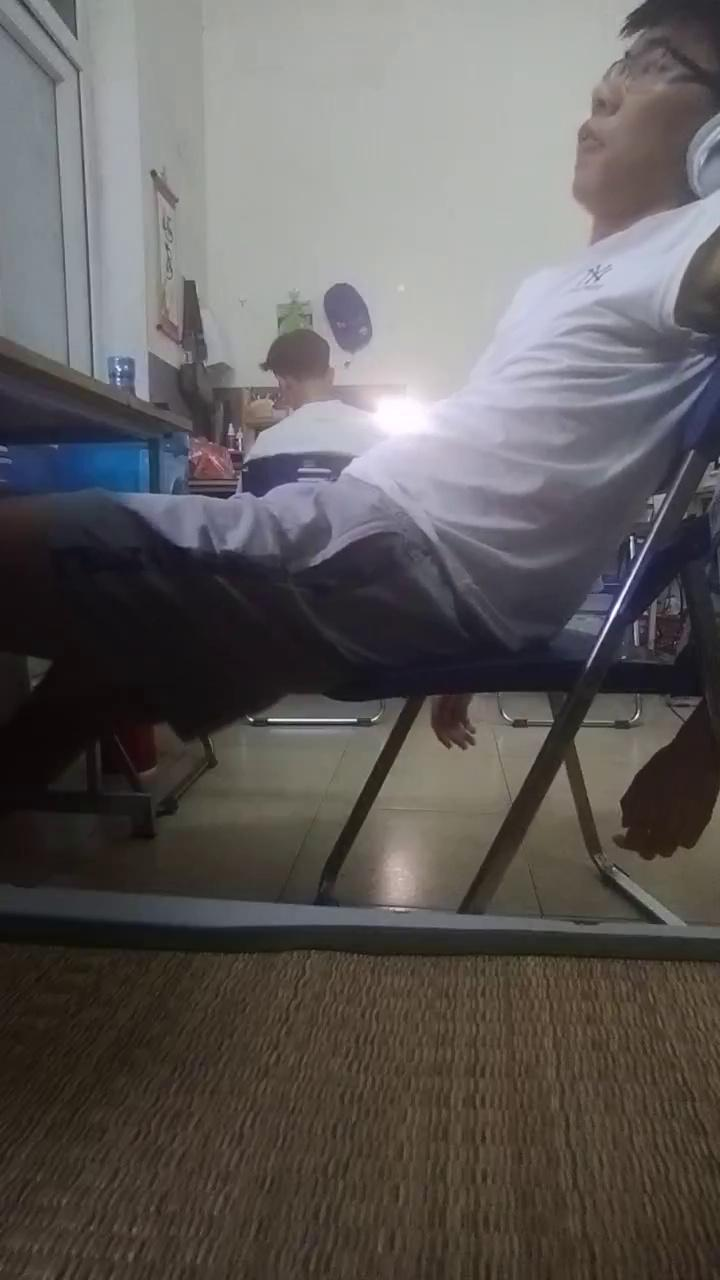BadPosture: (0, 0, 719, 812)
